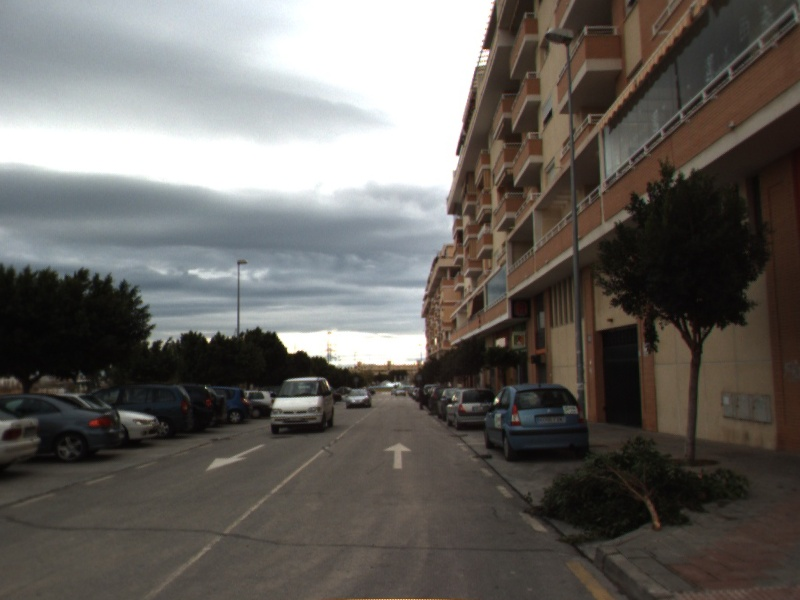STRAIGHT: (381, 440, 414, 471)
